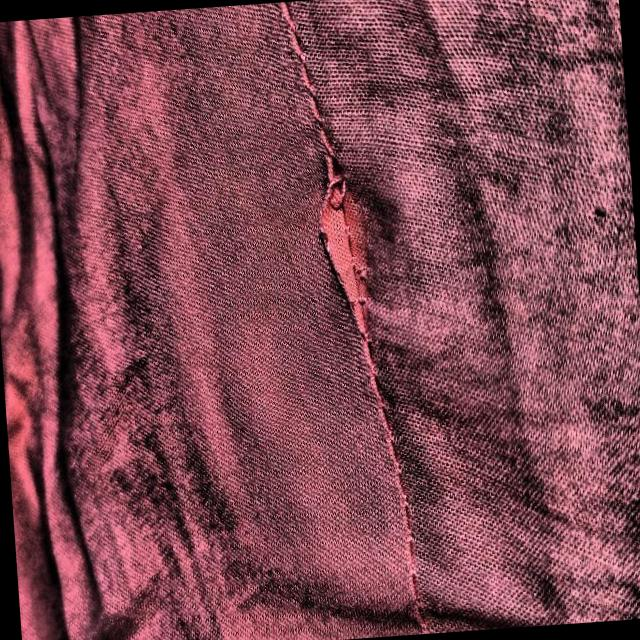gray stitch: (290, 116, 404, 373)
